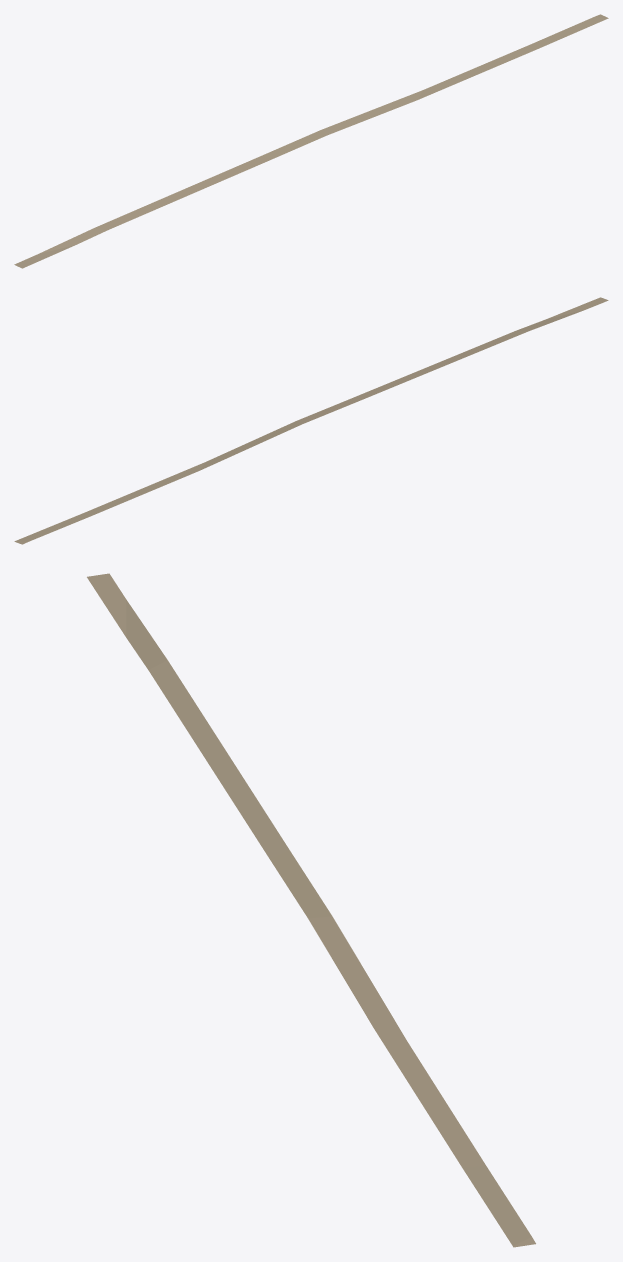
File: farm_-9_-5_track.glb
3 views of the same model, one above another, from view 1: azimuth 30°, elevation 25°; view 2: azimuth 210°, elevation 25°; view 3: azimuth 270°, elevation 25° (orthographic). The views are drawn at different scales.
Parts seen in each view (by area): view 1: geometry_0; view 2: geometry_0; view 3: geometry_0.
Part boxes in pixels (bbox=[...]): geometry_0: bbox=[14, 14, 608, 268]; geometry_0: bbox=[14, 297, 608, 544]; geometry_0: bbox=[87, 573, 535, 1247].
Size of the model in its own units: 223 by 1.77 by 62.37.
